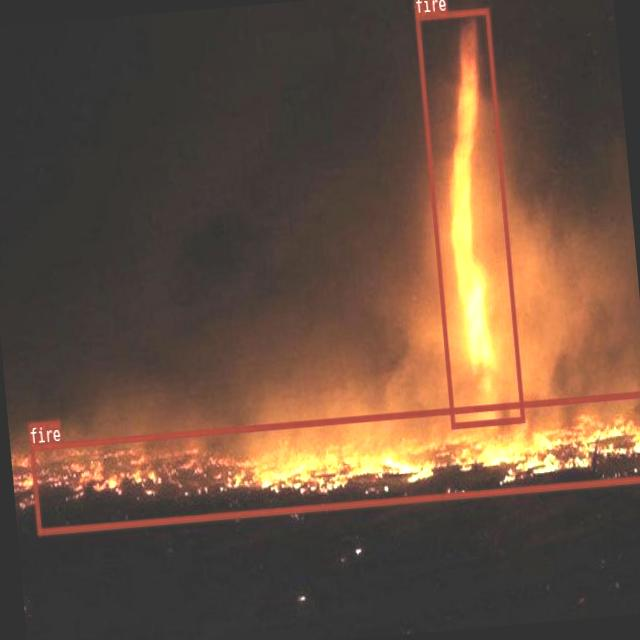fire: (29, 389, 640, 533), (414, 7, 523, 428)
